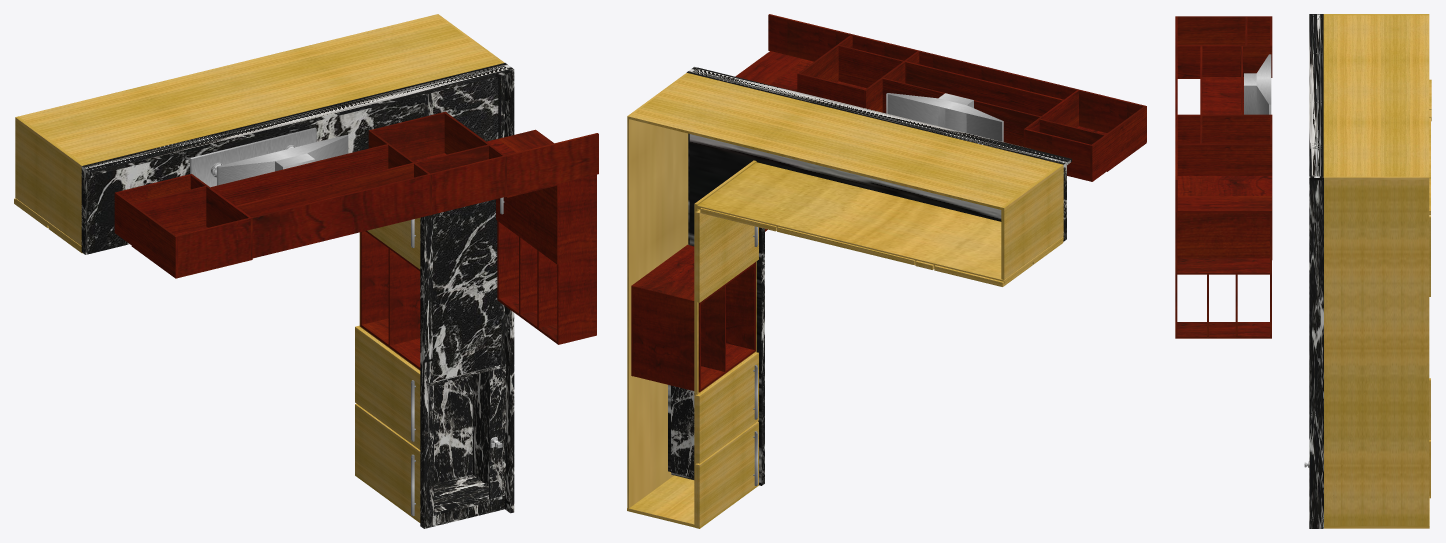
File: kitchenunit.obj
3 renders of one model, left to right at view 1: azimuth 30°, elevation 25°; view 2: azimuth 150°, elevation 25°; view 3: azimuth 270°, elevation 25°, orthographic. The views are drawn at different scales.
Parts seen in each view (by area): view 1: Cube.004_Cube.005, Cube.001_Cube.002, Cube.025_Cube.032, Cube.049_Cube.048, Cube.014_Cube.015, Cube.015_Cube.016, Cube.040_Cube.041, Cube.036_Cube.022, Cube.031_Cube.017, Cube.034_Cube.019, Cube.017_Cube.020, Cube.019_Cube.040 (+15 smaller); view 2: Cube.001_Cube.002, Cube_Cube.001, Cube.004_Cube.005, Cube.049_Cube.048, Cube.025_Cube.032, Cube.014_Cube.015, Cube.015_Cube.016, Cube.012_Cube.013, Cube.019_Cube.040, Cube.016_Cube.000, Cube.017_Cube.020, Cube.003_Cube.004 (+11 smaller); view 3: Cube.001_Cube.002, Cube.004_Cube.005, Cube.034_Cube.019, Cube.032_Cube.039, Cube.029_Cube.036, Cube.017_Cube.020, Cube.024_Cube.031, Cube.021_Cube.026, Cube.020_Cube.025, Cube.033_Cube.018, Cube.035_Cube.021, Cube.018_Cube.023 (+3 smaller).
Boxes of the visible parts, left/top/right/bottom form: Cube.004_Cube.005: left=81, top=63, right=514, bottom=528; Cube.001_Cube.002: left=15, top=14, right=504, bottom=245; Cube.025_Cube.032: left=174, top=133, right=598, bottom=276; Cube.049_Cube.048: left=360, top=230, right=420, bottom=369; Cube.014_Cube.015: left=355, top=325, right=420, bottom=449; Cube.015_Cube.016: left=355, top=403, right=420, bottom=522; Cube.040_Cube.041: left=210, top=144, right=388, bottom=205; Cube.036_Cube.022: left=557, top=255, right=596, bottom=344; Cube.031_Cube.017: left=558, top=174, right=596, bottom=263; Cube.034_Cube.019: left=496, top=184, right=558, bottom=264; Cube.017_Cube.020: left=114, top=193, right=177, bottom=277; Cube.019_Cube.040: left=236, top=163, right=413, bottom=217; Cube.001_Cube.002: left=627, top=73, right=1063, bottom=508; Cube_Cube.001: left=697, top=162, right=1063, bottom=283; Cube.004_Cube.005: left=668, top=67, right=1071, bottom=485; Cube.049_Cube.048: left=631, top=244, right=755, bottom=392; Cube.025_Cube.032: left=768, top=14, right=1146, bottom=132; Cube.014_Cube.015: left=695, top=352, right=758, bottom=463; Cube.015_Cube.016: left=695, top=421, right=758, bottom=528; Cube.012_Cube.013: left=695, top=210, right=758, bottom=302; Cube.019_Cube.040: left=905, top=61, right=1063, bottom=116; Cube.016_Cube.000: left=886, top=93, right=1003, bottom=141; Cube.017_Cube.020: left=1090, top=106, right=1146, bottom=181; Cube.003_Cube.004: left=627, top=475, right=695, bottom=527; Cube.001_Cube.002: left=1323, top=14, right=1429, bottom=525; Cube.004_Cube.005: left=1309, top=14, right=1323, bottom=528; Cube.034_Cube.019: left=1177, top=196, right=1272, bottom=259; Cube.032_Cube.039: left=1177, top=143, right=1272, bottom=175; Cube.029_Cube.036: left=1177, top=114, right=1270, bottom=143; Cube.017_Cube.020: left=1177, top=16, right=1270, bottom=45; Cube.024_Cube.031: left=1177, top=45, right=1272, bottom=77; Cube.021_Cube.026: left=1177, top=176, right=1272, bottom=195; Cube.020_Cube.025: left=1175, top=196, right=1271, bottom=212; Cube.033_Cube.018: left=1175, top=258, right=1271, bottom=274; Cube.035_Cube.021: left=1175, top=322, right=1271, bottom=338; Cube.018_Cube.023: left=1202, top=77, right=1243, bottom=114.
Bounding box in the file's own units: 133 × 133 × 88.11.
6 materials, 5 textured.
